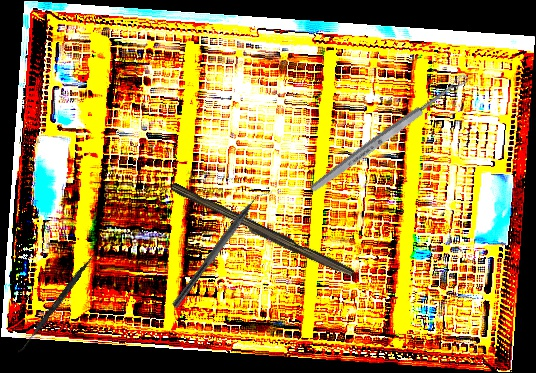Chopper: (171, 182, 274, 315)
Scalpel Handle: (167, 182, 357, 281)
Spatula Surgical: (17, 249, 98, 356)
Surgical Spoon: (307, 71, 471, 196)
